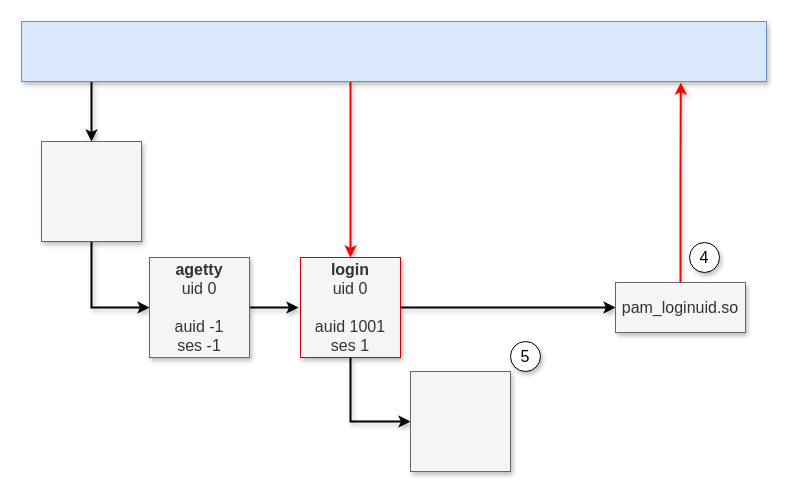
Some shapes in this 790 by 496 pixel diagram are drawn without their labels. Each missing label, with the centre of its shape:
"bash uid 1001 auid 1001 ses 1" goes at point (461, 422).
"init/systemd uid 0 auid -1 ses -1" goes at point (92, 192).
"Ядро" goes at point (394, 52).
